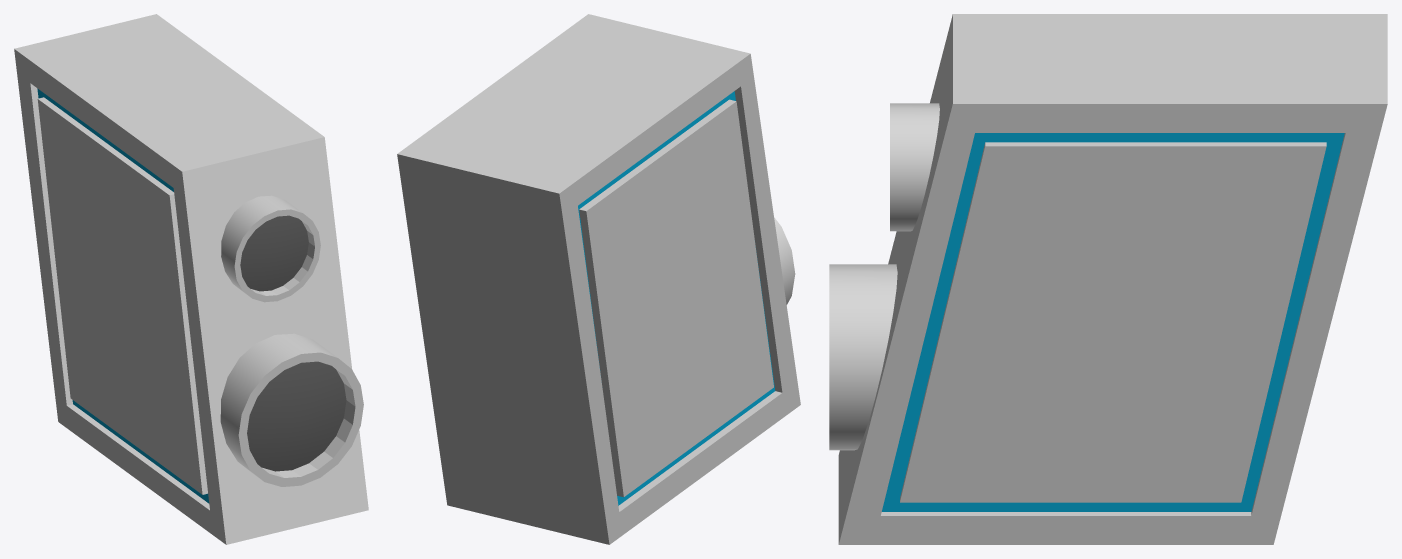
File: speaker2.fbx
3 renders of one model, left to right at view 1: azimuth 30°, elevation 25°; view 2: azimuth 150°, elevation 25°; view 3: azimuth 270°, elevation 25°, orthographic. The views are drawn at different scales.
Parts seen in each view (by area): view 1: pCube2; view 2: pCube2; view 3: pCube2.
Part boxes in pixels (x1,y1,x2,y2): pCube2: [14, 14, 368, 544]; pCube2: [397, 14, 800, 544]; pCube2: [829, 14, 1387, 544].
Size of the model in its own units: 2.36 by 5.38 by 6.17.
